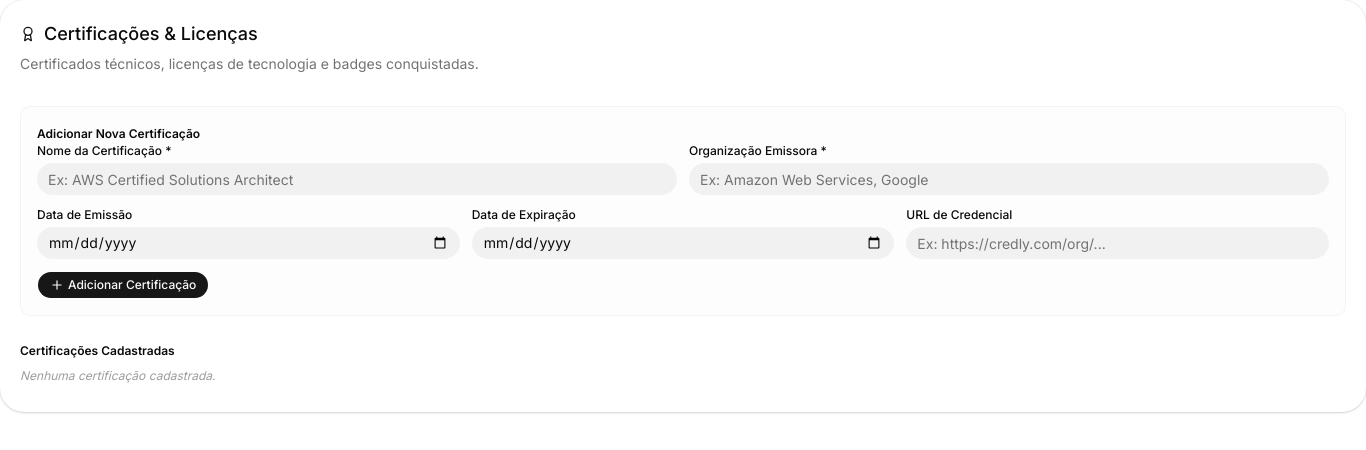
it: CandidateCertificationsSection Component › displays validation errors on empty submission
The image size is (1366, 450).
Click the button "Adicionar Certificação": [123, 285] box [37,271,209,299]
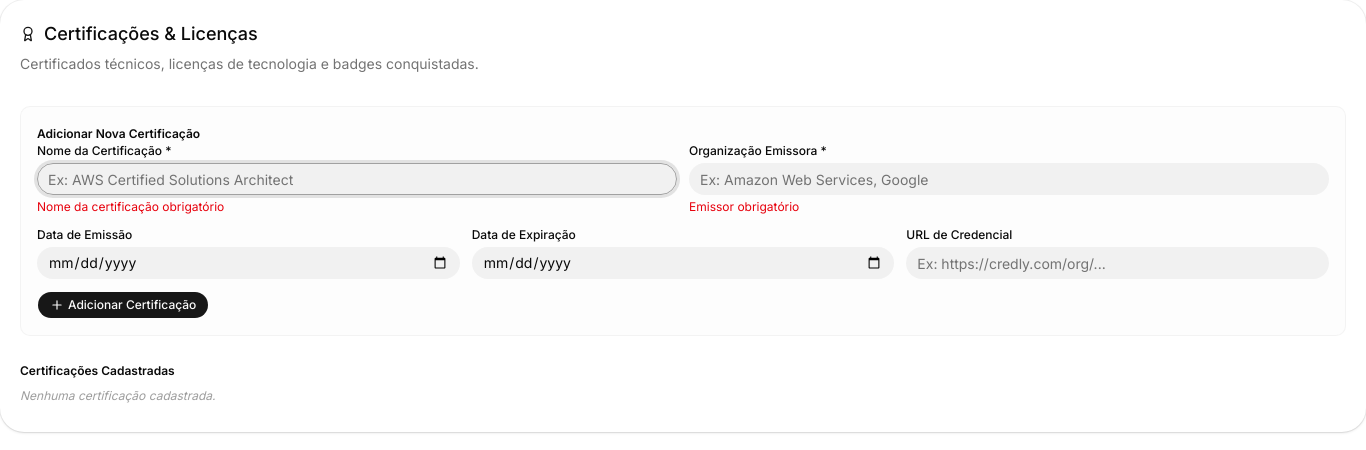
Check: the text "Nome da certificação obrigatório" is shown, box [37,199,224,214]
Check: the text "Emissor obrigatório" is shown, box [689,199,799,214]
